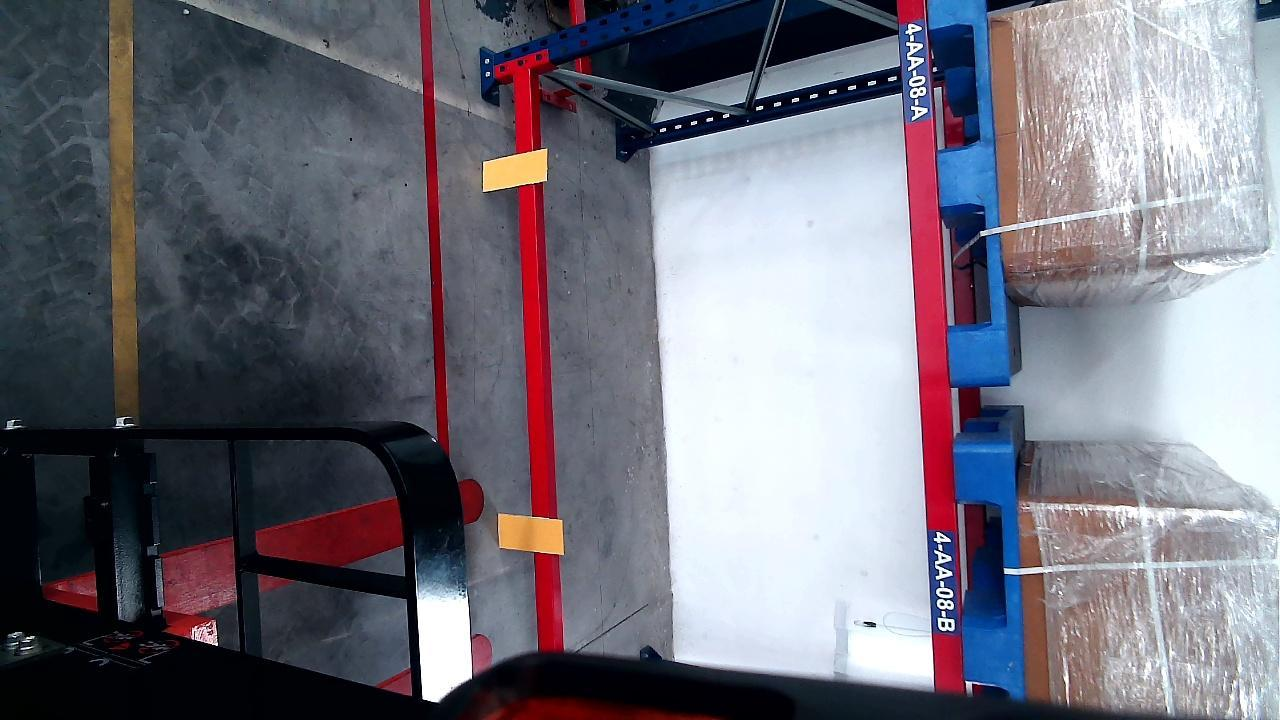red_line: (420, 1, 449, 443)
yellow_line: (109, 0, 138, 418)
